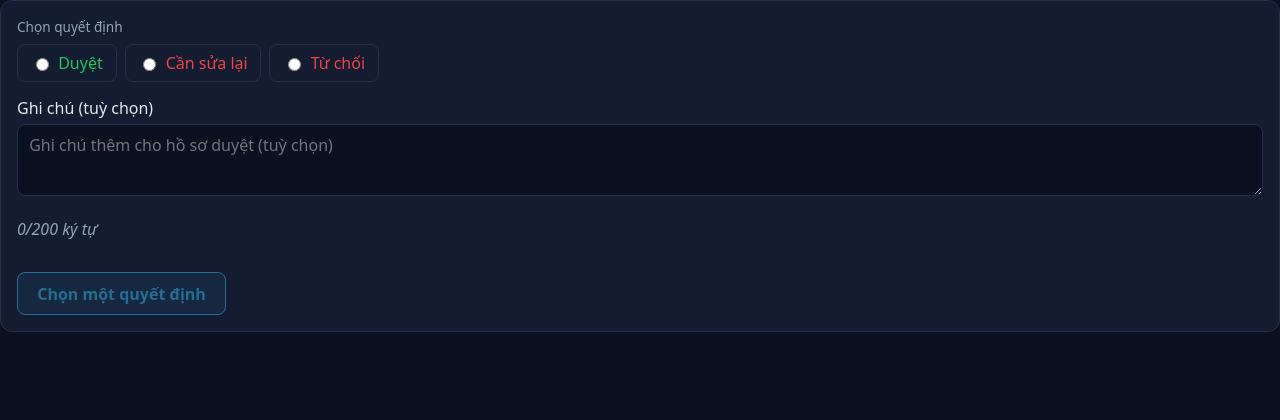
Test case: 403 hiện thông báo không có quyền, không lộ chi tiết kỹ thuật
Click the radio button labelled "Duyệt" at coordinates (42, 65), box x1=36 y1=58 x2=49 y2=71
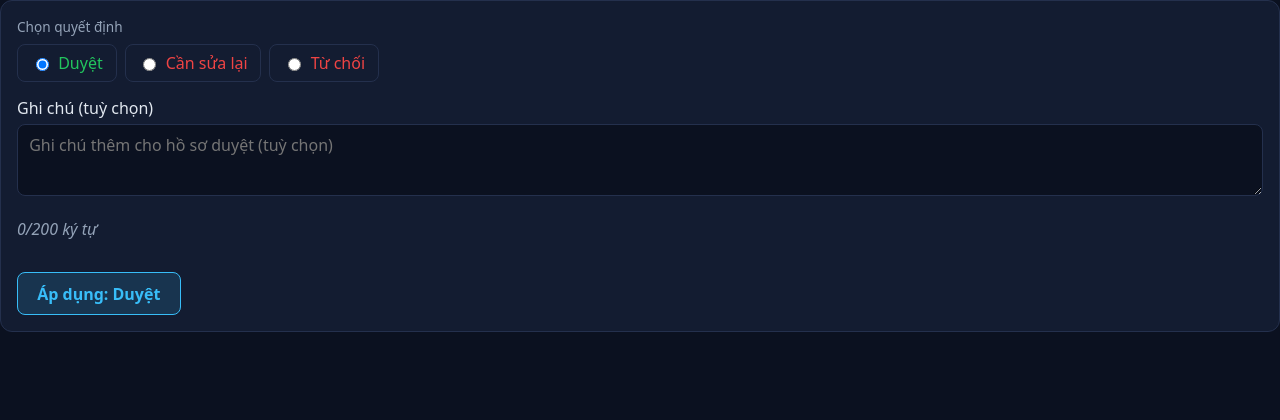
Click the button "Áp dụng: Duyệt" at coordinates (99, 294), box x1=17 y1=272 x2=181 y2=315
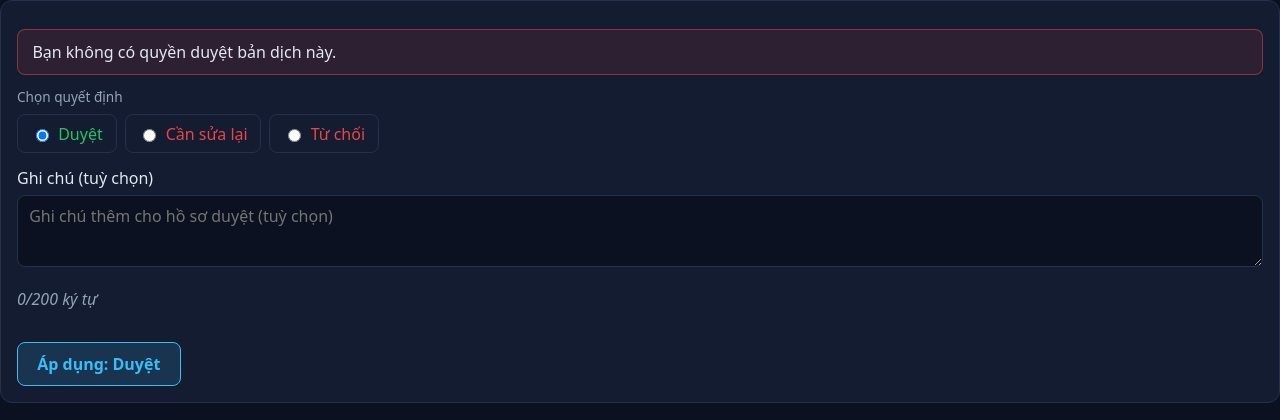
Expected: the message reads "Bạn không có quyền duyệt bản dịch này.", x1=32 y1=41 x2=336 y2=63
